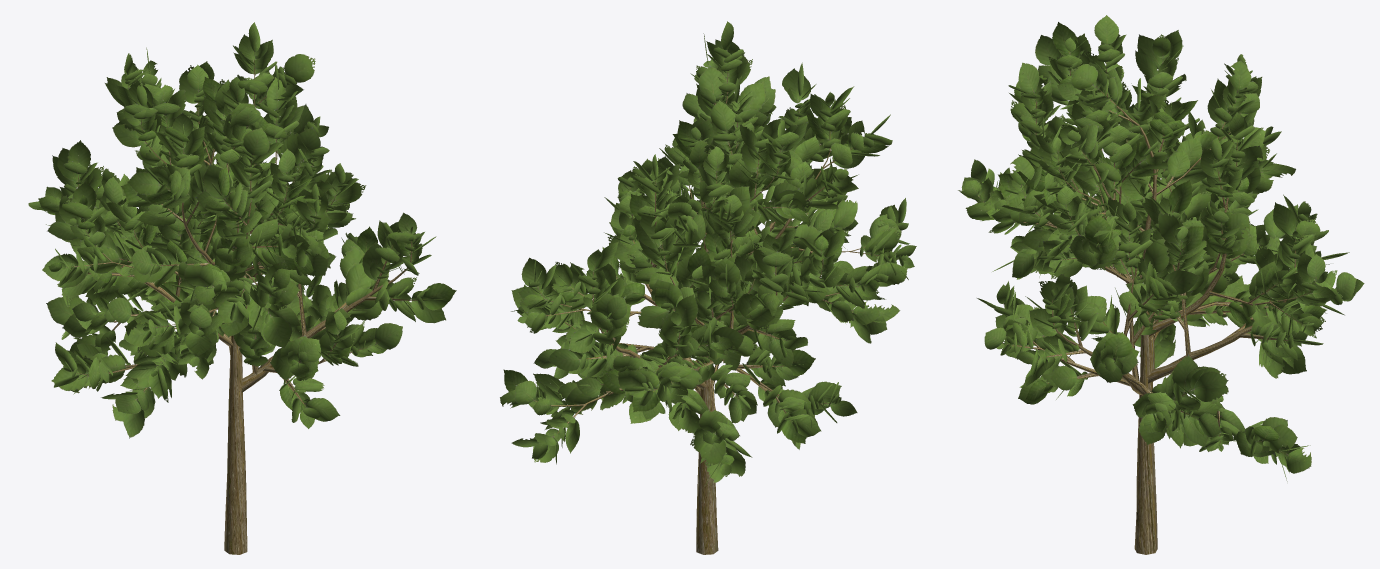
Rendered from tree2.glb.
3 views of the same model, side by side, from view 1: azimuth 30°, elevation 25°; view 2: azimuth 150°, elevation 25°; view 3: azimuth 270°, elevation 25° (orthographic). The views are drawn at different scales.
Visible parts, largest first — view 1: leaves, trunk; view 2: leaves, trunk; view 3: leaves, trunk.
Boxes of the visible parts, x1=… form: leaves: x1=28, y1=22, x2=456, y2=438; trunk: x1=66, y1=59, x2=417, y2=554; leaves: x1=500, y1=21, x2=916, y2=485; trunk: x1=534, y1=71, x2=887, y2=554; leaves: x1=958, y1=15, x2=1364, y2=481; trunk: x1=981, y1=62, x2=1315, y2=554.
Bounding box in the file's own units: 0.721 × 1 × 0.7042.
2 materials, 2 textured.
